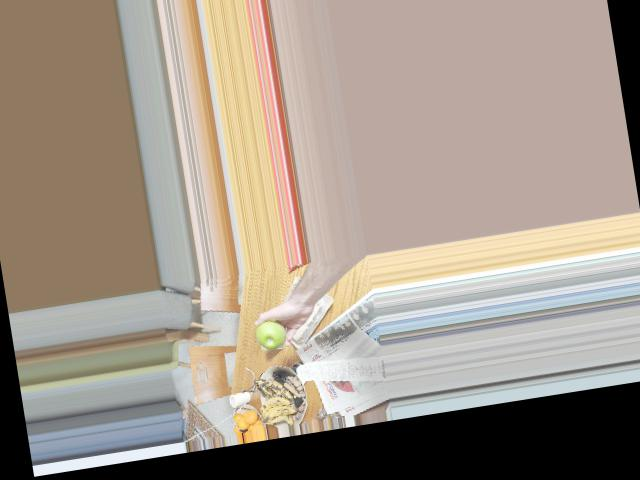apple: (253, 318, 289, 350)
